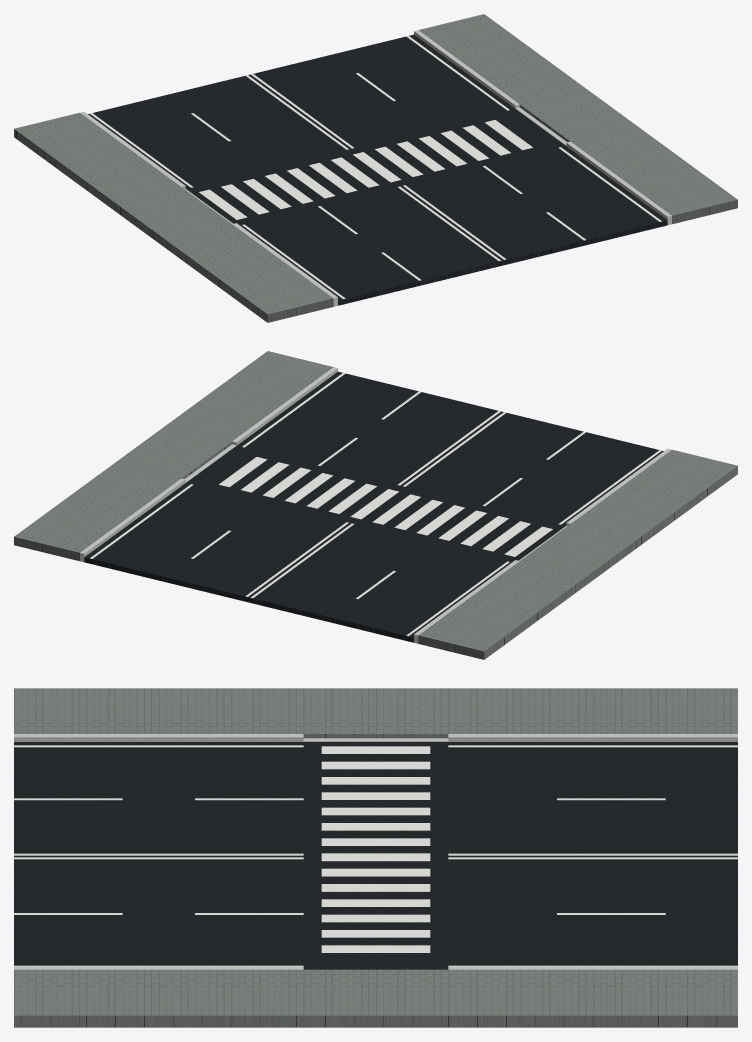
File: RK3_Road_Urban4_Crosswalk_20m.fbx
3 views of the same model, one above another, from view 1: azimuth 30°, elevation 25°; view 2: azimuth 150°, elevation 25°; view 3: azimuth 270°, elevation 25° (orthographic). The views are drawn at different scales.
Visible parts, largest first — view 1: COL_Asphalt.003, COL_Paving.003, Markings_White.003, COL_Concrete.003, Curb_Concrete.003; view 2: COL_Asphalt.003, COL_Paving.003, Markings_White.003, COL_Concrete.003, Curb_Concrete.003; view 3: COL_Asphalt.003, COL_Paving.003, Markings_White.003, COL_Concrete.003, Curb_Concrete.003.
Boxes of the visible parts, bbox=[...] form: COL_Asphalt.003: bbox=[88, 34, 667, 305]; COL_Paving.003: bbox=[14, 14, 737, 322]; Markings_White.003: bbox=[90, 35, 661, 299]; COL_Concrete.003: bbox=[80, 30, 671, 306]; Curb_Concrete.003: bbox=[80, 31, 668, 297]; COL_Asphalt.003: bbox=[84, 371, 663, 642]; COL_Paving.003: bbox=[14, 351, 737, 659]; Markings_White.003: bbox=[90, 372, 661, 636]; COL_Concrete.003: bbox=[80, 367, 670, 643]; Curb_Concrete.003: bbox=[81, 367, 671, 633]; COL_Asphalt.003: bbox=[14, 742, 737, 969]; COL_Paving.003: bbox=[14, 688, 737, 1027]; Markings_White.003: bbox=[14, 745, 737, 966]; COL_Concrete.003: bbox=[14, 734, 737, 969]; Curb_Concrete.003: bbox=[14, 734, 737, 969].
Size of the model in its own units: 2140 by 37 by 2000.
4 materials, 2 textured.
